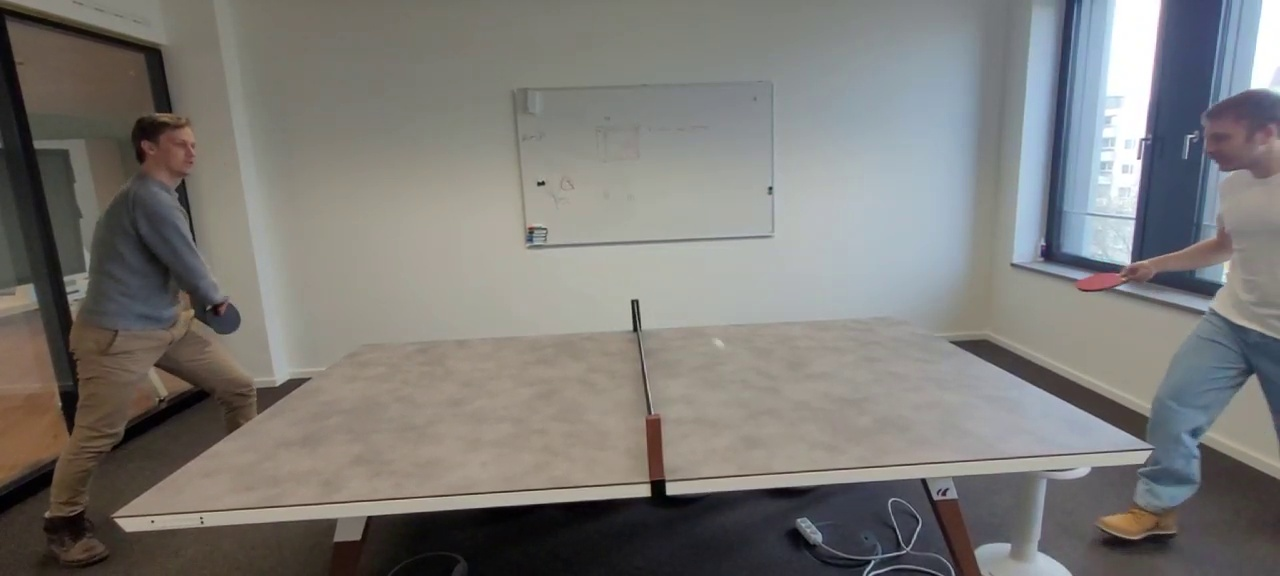1: (1075, 272, 1133, 292), (206, 301, 241, 334)
2: (713, 338, 725, 349)
ttplatte: (114, 314, 1154, 515)
